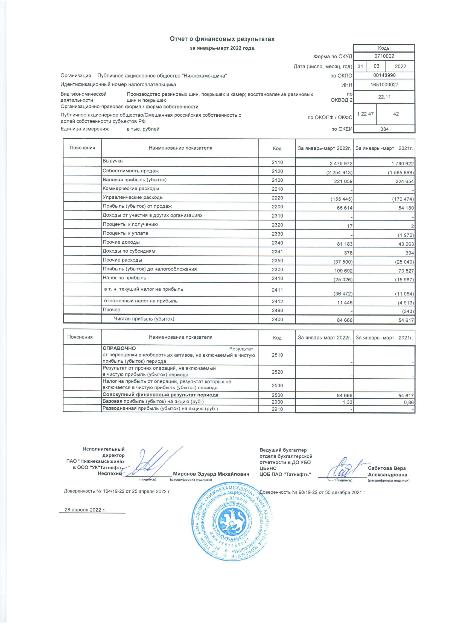stamp: (191, 482, 273, 560)
